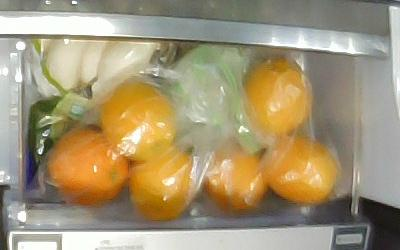orange_vinyl: (51, 125, 130, 201), (100, 84, 176, 157), (241, 60, 309, 135), (267, 135, 337, 203), (130, 148, 193, 219), (203, 143, 267, 210)
